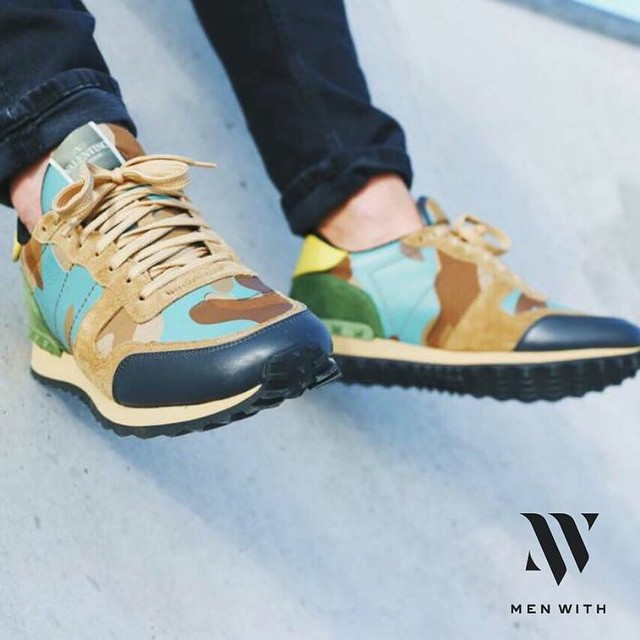sneaker: (1, 105, 370, 472), (280, 153, 640, 419)
